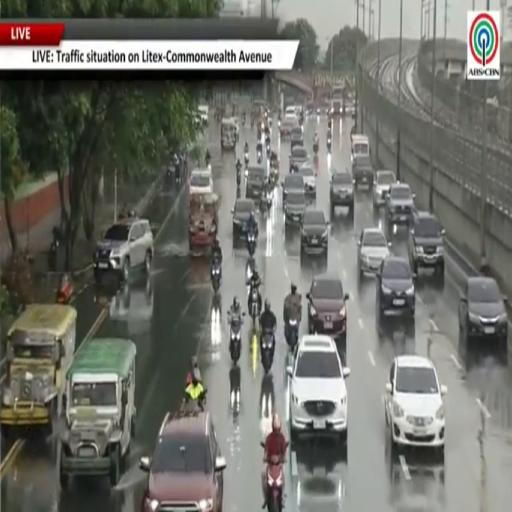car: (140, 412, 226, 511), (287, 335, 350, 442), (385, 356, 446, 455), (93, 217, 153, 283), (459, 277, 508, 354), (307, 274, 348, 351), (376, 256, 415, 323), (408, 212, 444, 276), (358, 228, 390, 277), (385, 183, 415, 232), (301, 208, 329, 257), (330, 171, 353, 216), (232, 199, 256, 239), (373, 170, 396, 211), (283, 190, 306, 223), (352, 155, 374, 188), (246, 166, 266, 201), (282, 173, 304, 203), (189, 169, 213, 195), (298, 165, 316, 198), (351, 134, 369, 162), (289, 147, 308, 172), (280, 115, 297, 137), (291, 126, 303, 148), (343, 96, 354, 117), (198, 105, 208, 125), (317, 102, 330, 116), (285, 106, 297, 119), (305, 102, 315, 116)
jeepney: (60, 339, 136, 488), (0, 304, 76, 436), (189, 194, 218, 251), (221, 119, 238, 150)
motorcycle: (267, 456, 284, 511), (230, 312, 244, 363), (47, 227, 62, 271), (260, 331, 275, 374), (184, 389, 207, 411), (56, 275, 73, 303), (286, 317, 299, 349), (249, 286, 259, 325), (211, 262, 221, 293), (246, 232, 257, 257), (246, 259, 255, 284), (265, 190, 272, 210), (271, 167, 278, 186), (313, 142, 319, 155), (237, 168, 241, 187), (327, 139, 332, 153), (257, 151, 262, 164), (245, 152, 249, 168), (266, 142, 270, 157), (242, 114, 245, 126), (251, 117, 254, 128), (278, 120, 281, 129)
